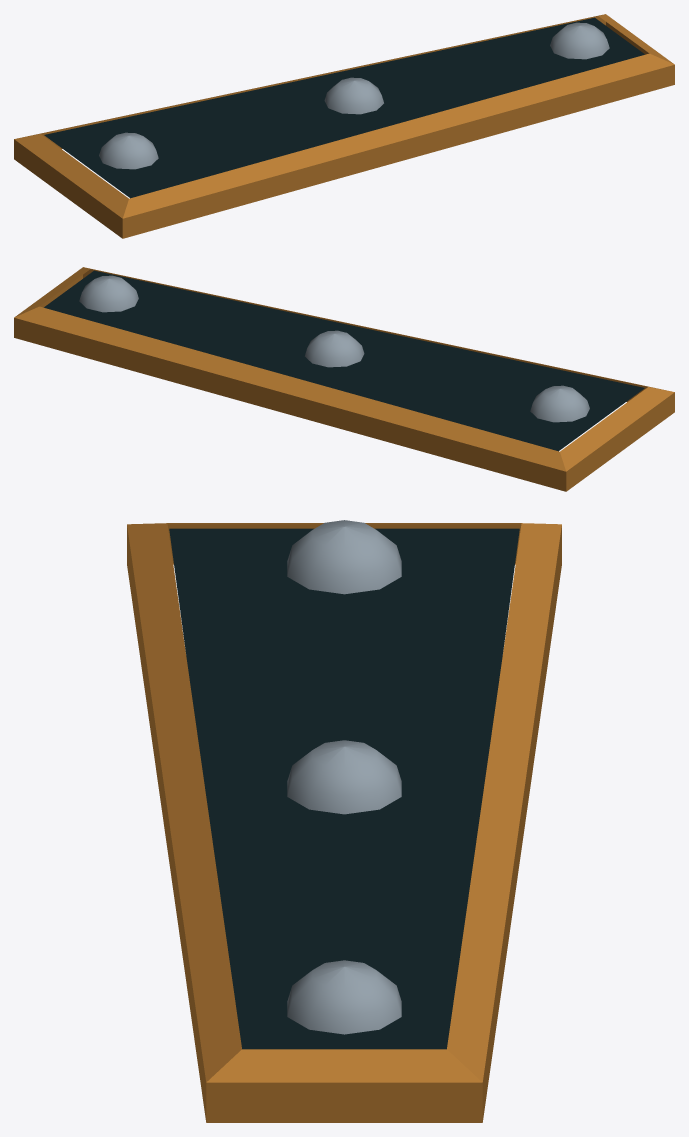
File: bracket.dae
3 renders of one model, top to bottom at view 1: azimuth 30°, elevation 25°; view 2: azimuth 150°, elevation 25°; view 3: azimuth 270°, elevation 25°, orthographic. The views are drawn at different scales.
Visible parts, largest first — view 1: wall_art, accent, metal; view 2: wall_art, accent, metal; view 3: wall_art, accent, metal.
Boxes of the visible parts, <box> form: wall_art: <box>44,17,644,198</box>; accent: <box>14,14,674,238</box>; metal: <box>99,22,609,169</box>; wall_art: <box>44,270,644,451</box>; accent: <box>14,267,674,491</box>; metal: <box>79,275,589,422</box>; wall_art: <box>169,528,519,1049</box>; accent: <box>127,523,561,1122</box>; metal: <box>287,520,401,1034</box>.
Bounding box in the file's own units: 2.08 × 0.1687 × 0.6849.
